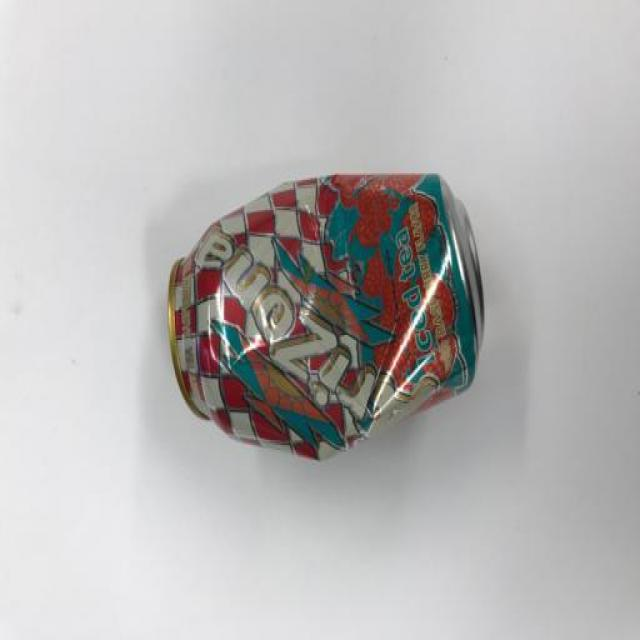metel: (165, 185, 489, 439)
